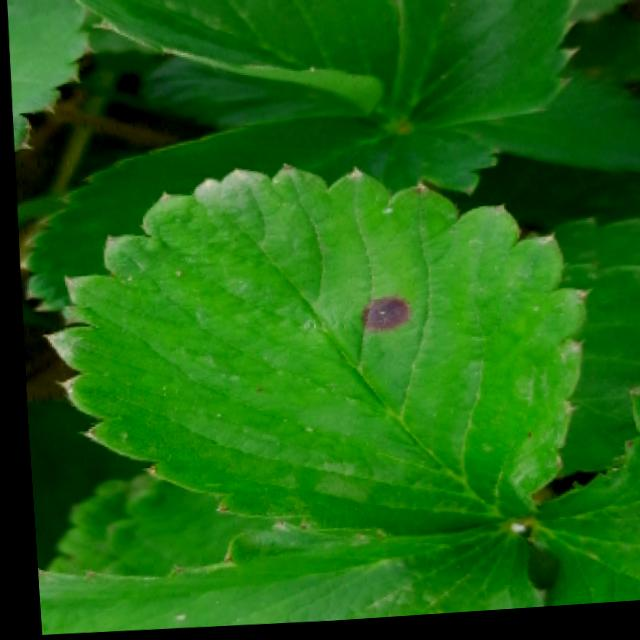Leaf Spot: (33, 163, 586, 541), (515, 381, 640, 614)
